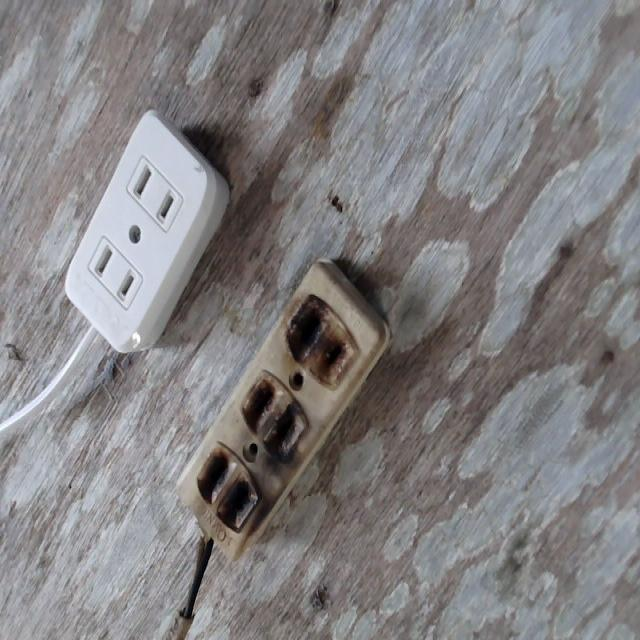-: (188, 287, 354, 532)
